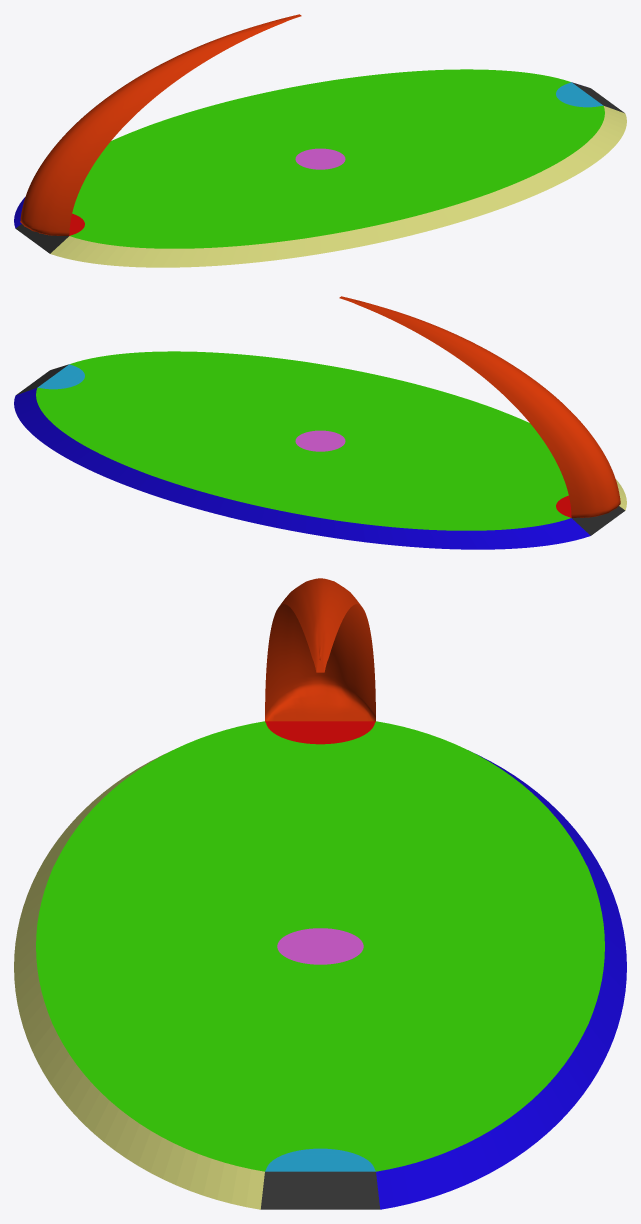
Rendered from stadium 21.fbx.
The picture shows the model from 3 angles, top to bottom: view 1: azimuth 30°, elevation 25°; view 2: azimuth 150°, elevation 25°; view 3: azimuth 270°, elevation 25°; orthographic projection. The views are drawn at different scales.
Visible parts, largest first — view 1: socle, redGoal; view 2: socle, redGoal; view 3: socle, redGoal.
Boxes of the visible parts, box(x1,y1,x2,y2) form: socle: box(14, 69, 626, 267); redGoal: box(20, 14, 301, 235); socle: box(14, 351, 626, 549); redGoal: box(339, 296, 620, 517); socle: box(14, 721, 626, 1209); redGoal: box(265, 578, 375, 721).
Bounding box in the file's own units: 21.38 × 5.61 × 11.22.
